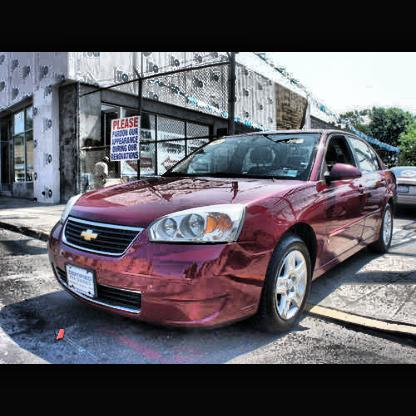Chevrolet Malibu Sedan 2007: (50, 131, 397, 329)
